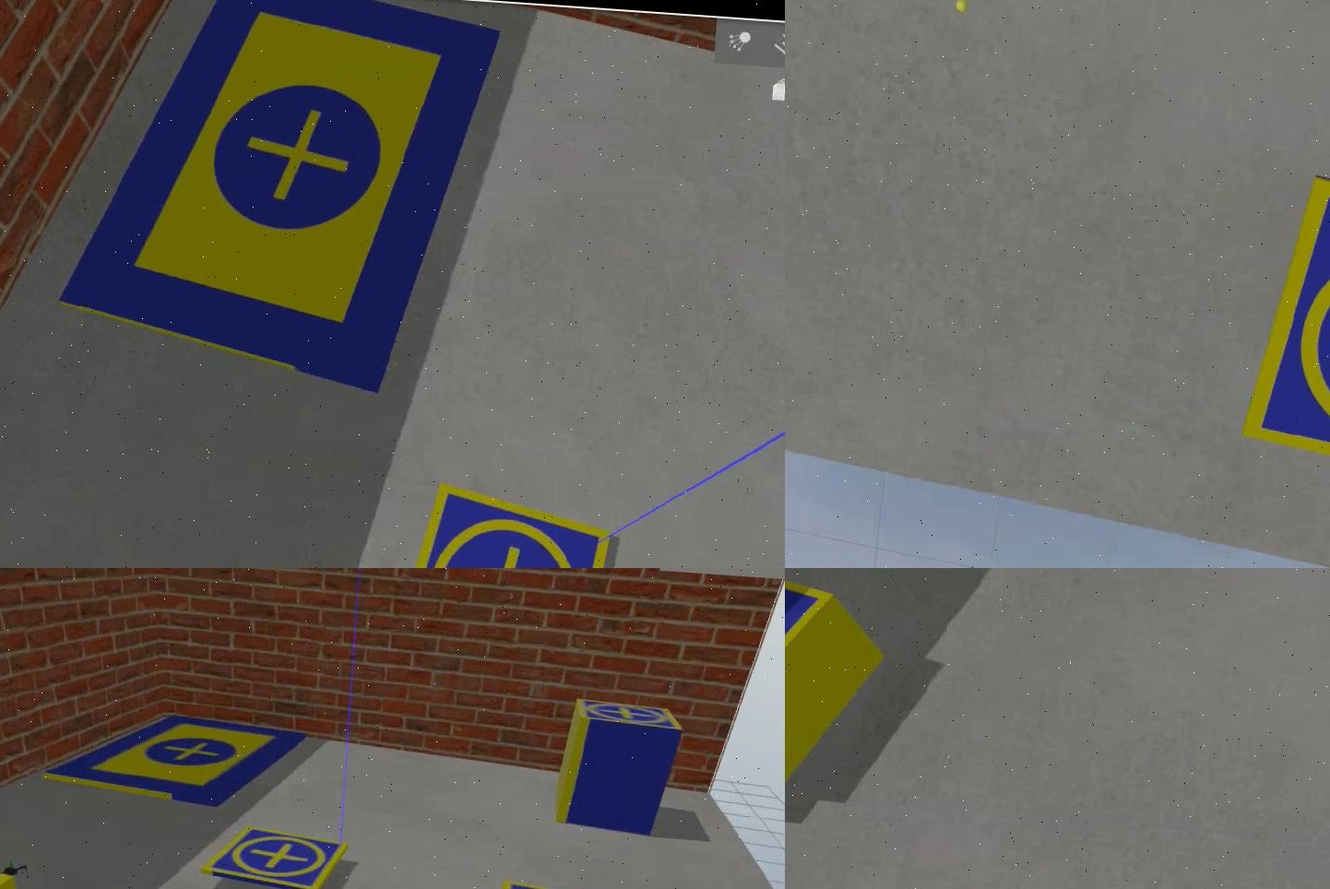large_base: (51, 1, 503, 402), (39, 705, 312, 812)
small_base: (1238, 172, 1328, 503), (385, 480, 619, 568), (783, 568, 836, 753), (192, 826, 347, 889), (575, 697, 681, 735)
